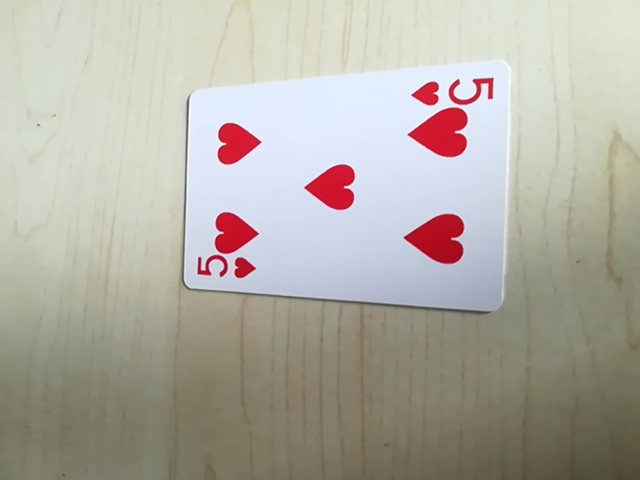hx 5: (409, 67, 500, 111), (191, 253, 260, 289)
